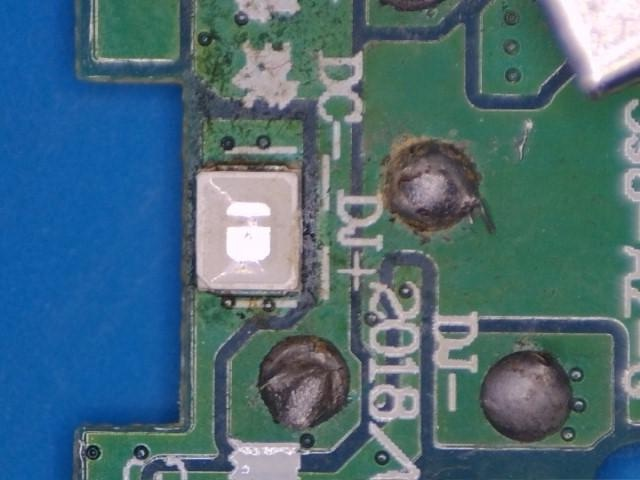pcb_defect: (257, 336, 349, 430), (386, 140, 478, 233), (480, 352, 573, 443)
